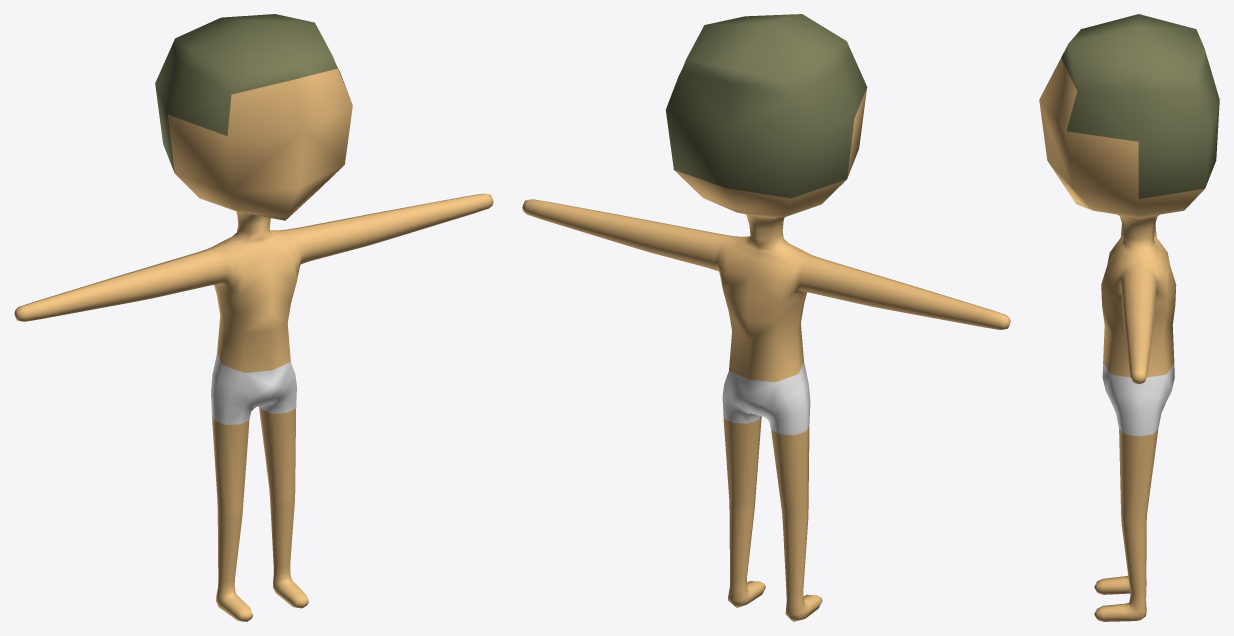
The model's file is Character_v2.fbx.
3 renders of one model, left to right at view 1: azimuth 30°, elevation 25°; view 2: azimuth 150°, elevation 25°; view 3: azimuth 270°, elevation 25°, orthographic.
Visible parts, largest first — view 1: Character_v1; view 2: Character_v1; view 3: Character_v1.
Part boxes in pixels (box(x1,y1,x2,y2)): Character_v1: box(14, 14, 493, 621); Character_v1: box(522, 14, 1010, 621); Character_v1: box(1039, 14, 1219, 621).
Bounding box in the file's own units: 119 × 139 × 39.13.
